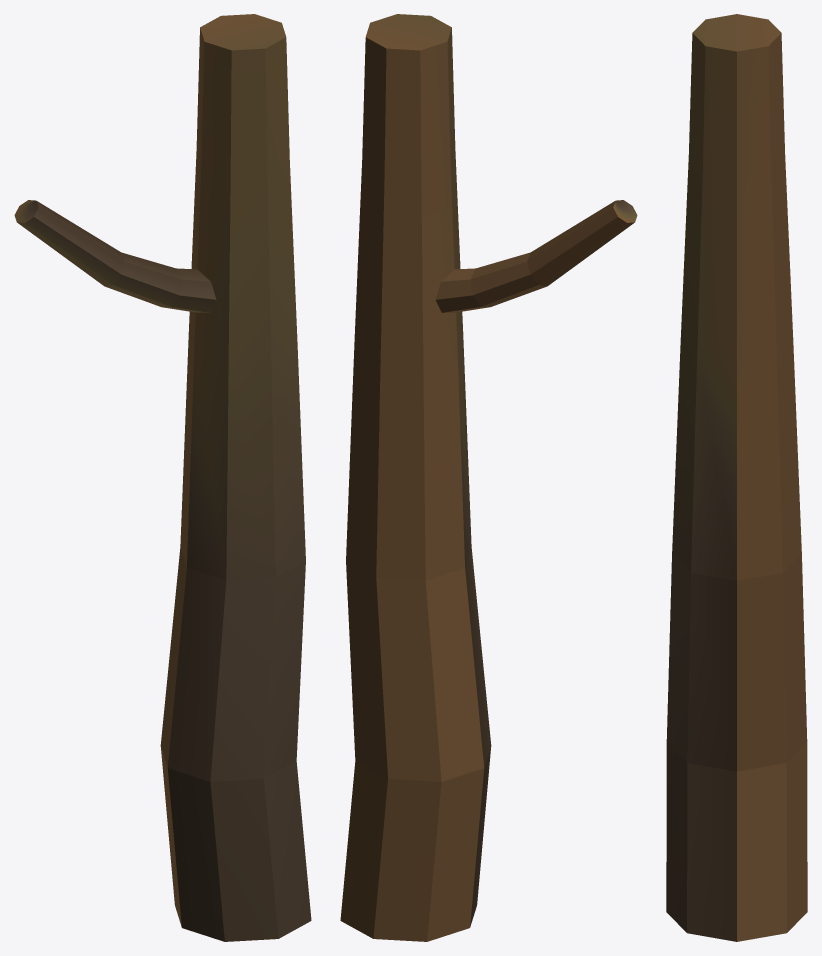
The model's file is Tree1_Winter.fbx.
3 views of the same model, side by side, from view 1: azimuth 30°, elevation 25°; view 2: azimuth 150°, elevation 25°; view 3: azimuth 270°, elevation 25° (orthographic).
Parts seen in each view (by area): view 1: Tree2.002; view 2: Tree2.002; view 3: Tree2.002.
Part boxes in pixels (x1,y1,x2,y2): Tree2.002: (14, 14, 311, 941); Tree2.002: (340, 14, 637, 941); Tree2.002: (666, 14, 807, 941).
Size of the model in its own units: 188 by 550 by 80.
